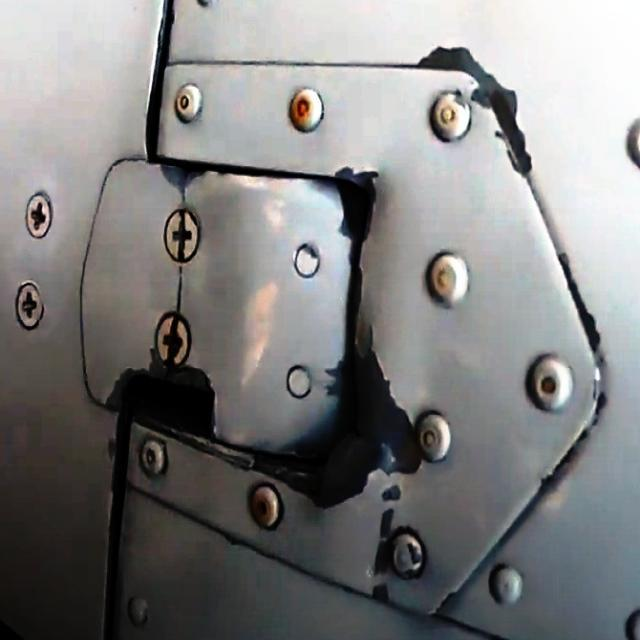crack: (172, 266, 187, 317)
